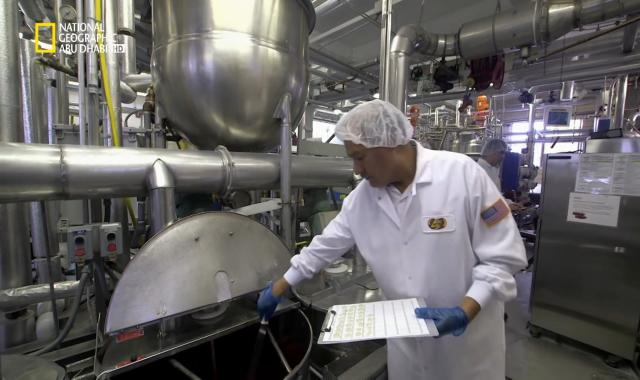hairnet: (334, 101, 412, 151), (480, 137, 512, 158)
